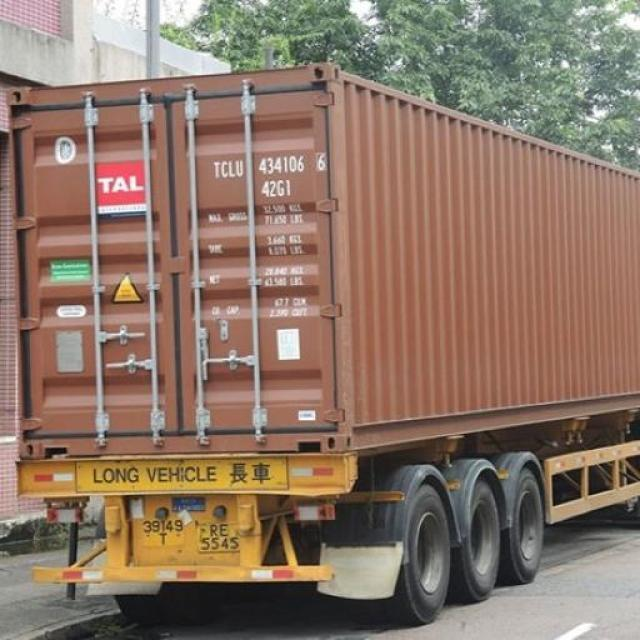ISO: (262, 178, 294, 198)
container_number: (210, 154, 328, 177)
